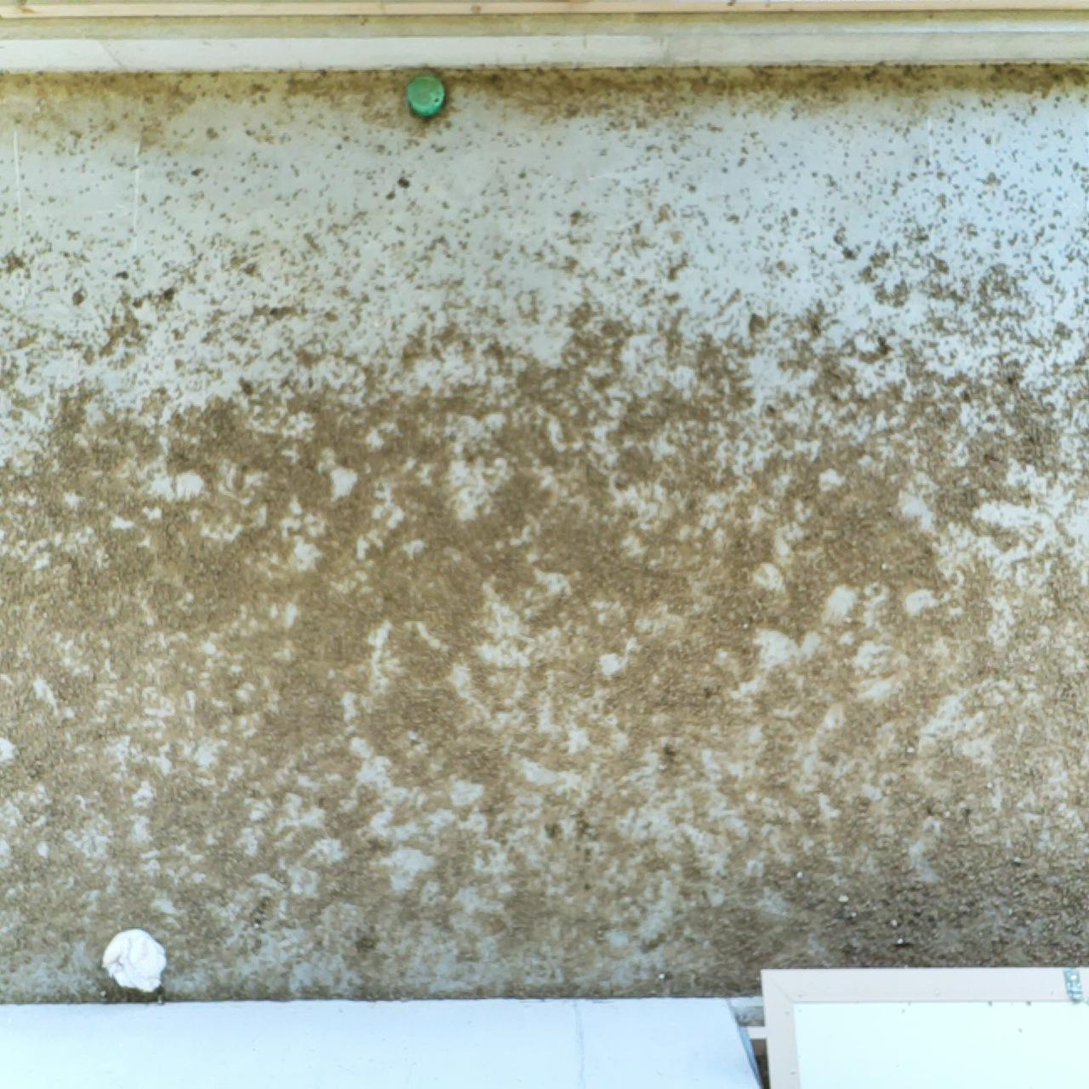chicken: (94, 925, 172, 996)
